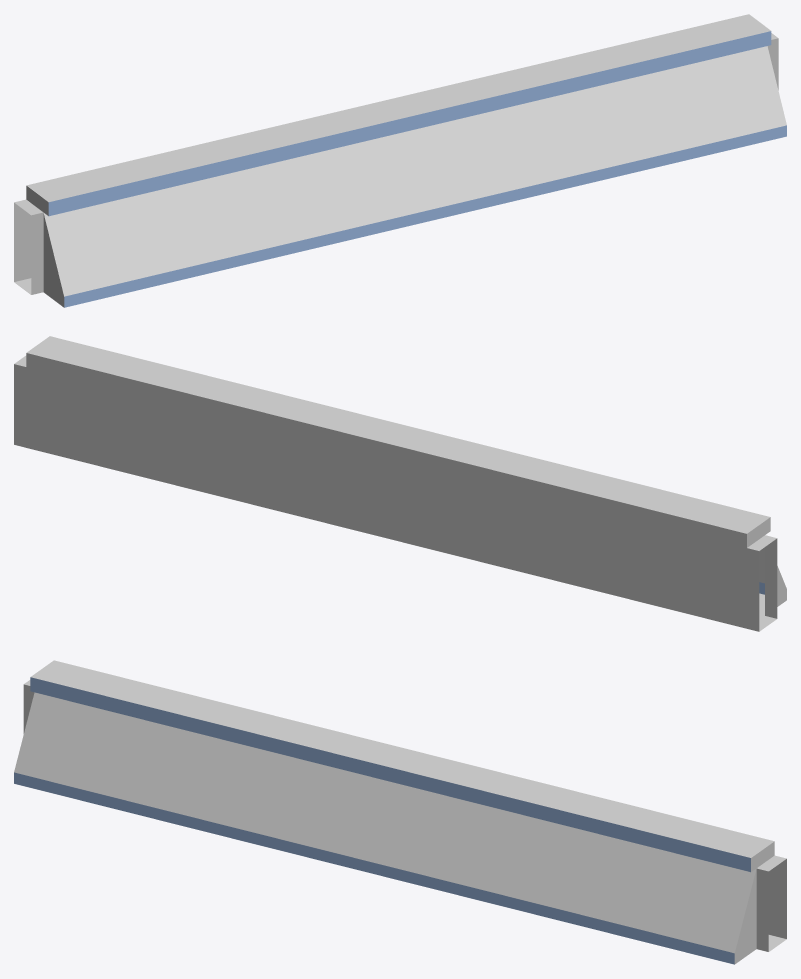
The model's file is feb10.glb.
3 renders of one model, top to bottom at view 1: azimuth 30°, elevation 25°; view 2: azimuth 150°, elevation 25°; view 3: azimuth 330°, elevation 25°, orthographic.
Parts seen in each view (by area): view 1: feb 10; view 2: feb 10; view 3: feb 10.
Part boxes in pixels (x1,y1,x2,y2): feb 10: [14, 14, 786, 307]; feb 10: [14, 336, 786, 631]; feb 10: [14, 660, 786, 964].
Bounding box in the file's own units: 24.34 × 2.94 × 2.5.
